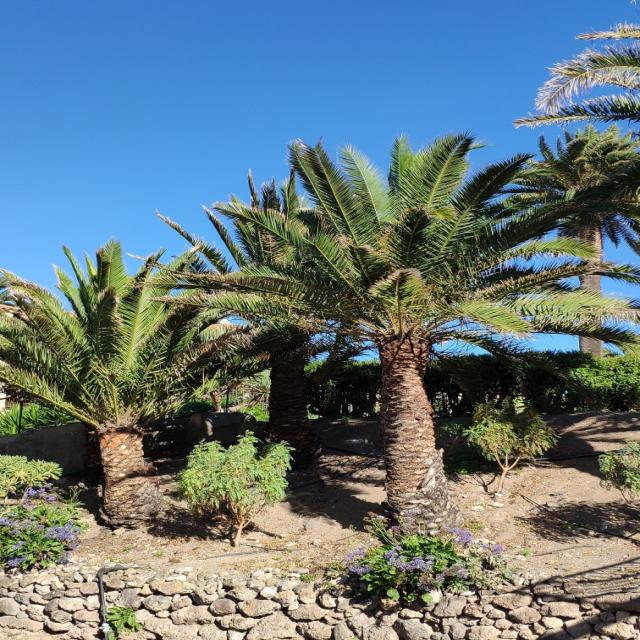Palm-Trees: (235, 134, 576, 539), (1, 236, 262, 526), (513, 122, 640, 360)
